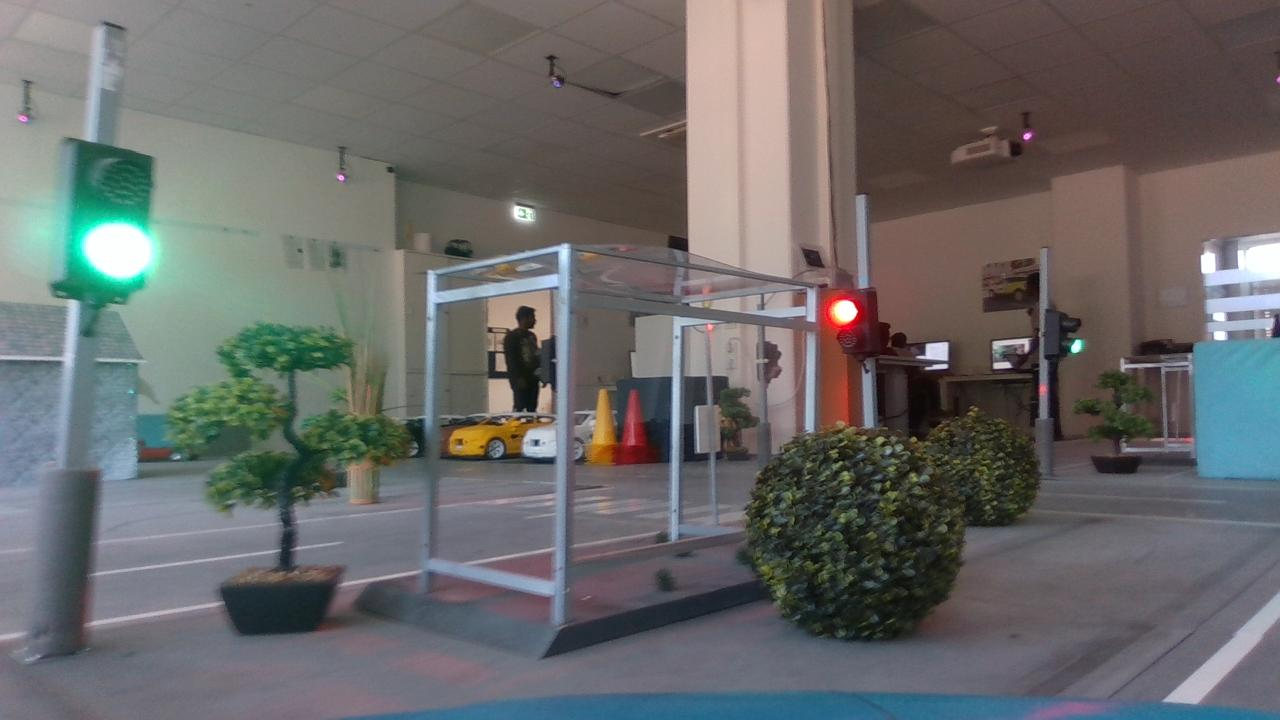traffic_light_green: (35, 114, 186, 318)
